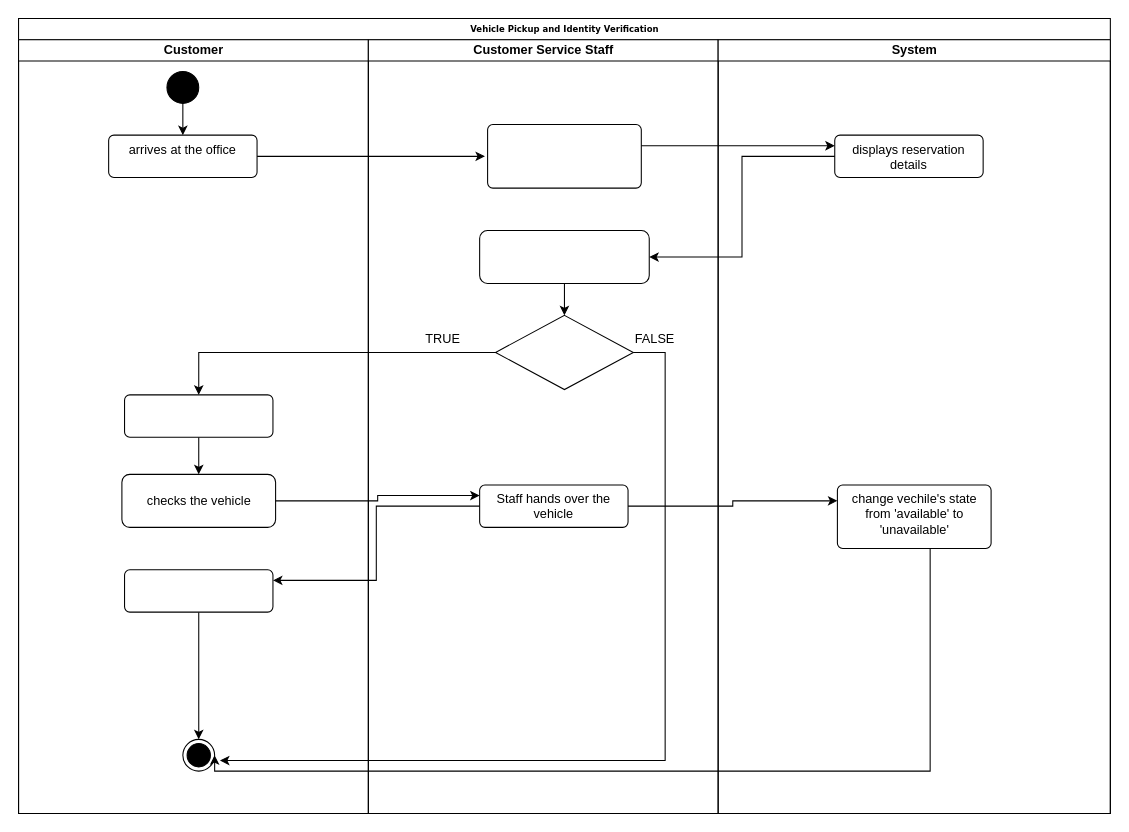
The diagram is 1129 pixels wide and 832 high, and some of its shapes have lost their labels. The shapes that lost their labels are listed below. From the top down, each one's centre as x and y in pixels, then its label:
At [564,155]: "accesses reservation details in the system".
At [564,256]: "verifies customer identity".
At [563,352]: "Identity verified?".
At [198,415]: "signs rental agreement".
At [198,590]: "takes the vehicle".
